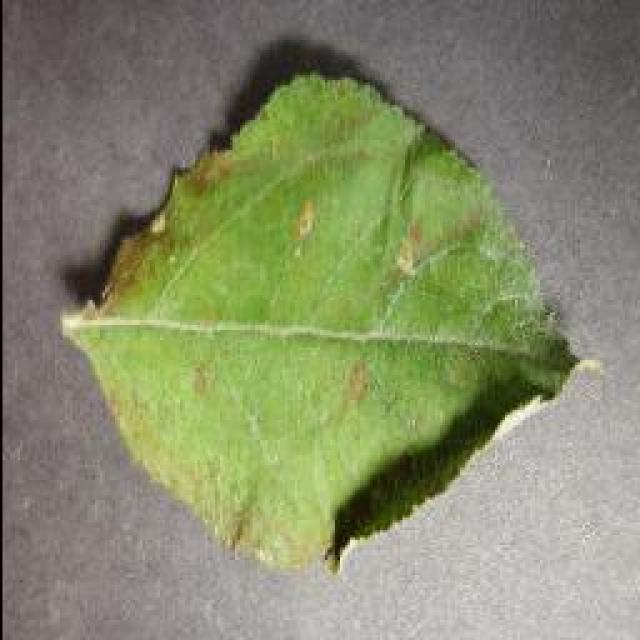apple cedar apple rust: (58, 65, 592, 575)
